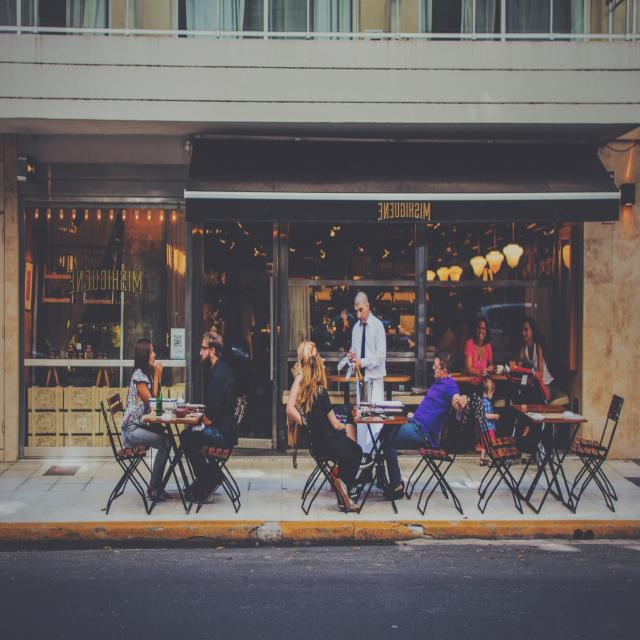adult: (385, 349, 467, 504), (303, 342, 361, 512), (180, 334, 237, 502), (118, 341, 171, 502), (344, 292, 386, 460), (512, 314, 557, 402), (463, 318, 491, 392), (476, 373, 498, 465)
